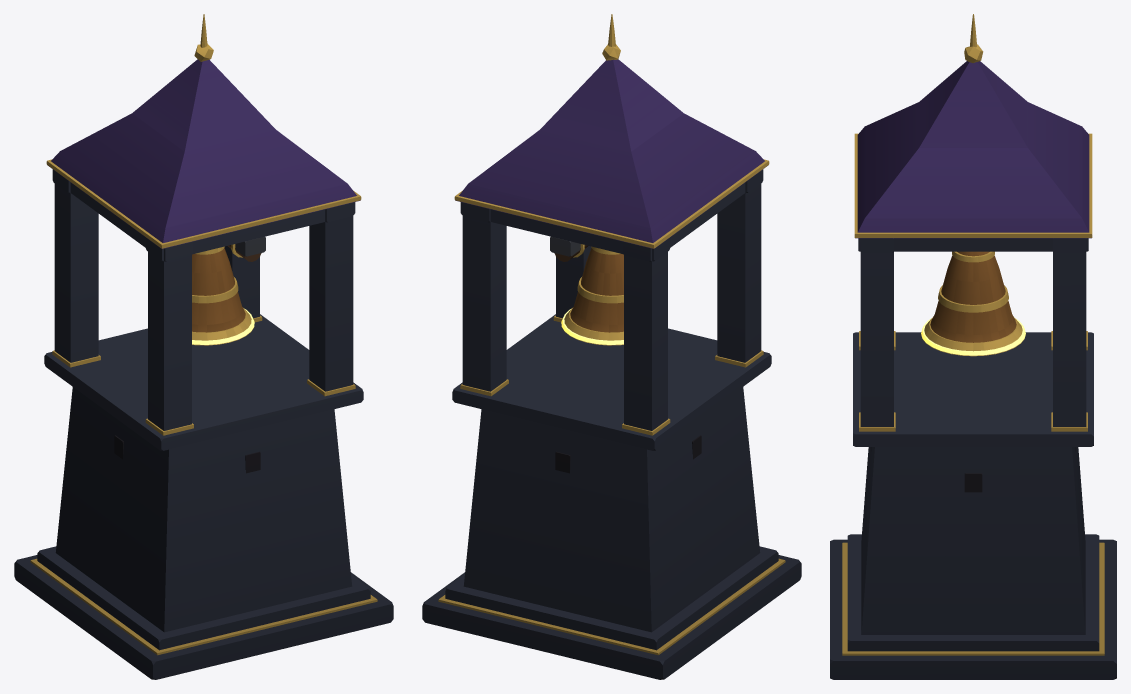
The model's file is bell.glb.
3 renders of one model, left to right at view 1: azimuth 30°, elevation 25°; view 2: azimuth 150°, elevation 25°; view 3: azimuth 270°, elevation 25°, orthographic. The views are drawn at different scales.
Visible parts, largest first — view 1: tower, bellbody; view 2: tower, bellbody; view 3: tower, bellbody, ring.
Part boxes in pixels (x1,y1,x2,y2): tower: (14,14,393,679); bellbody: (192,244,261,345); tower: (422,14,801,679); bellbody: (554,244,623,345); tower: (830,14,1116,679); bellbody: (921,251,1025,356); ring: (921,318,1025,355).
Bounding box in the file's own units: 8.2 × 19.09 × 8.2.
